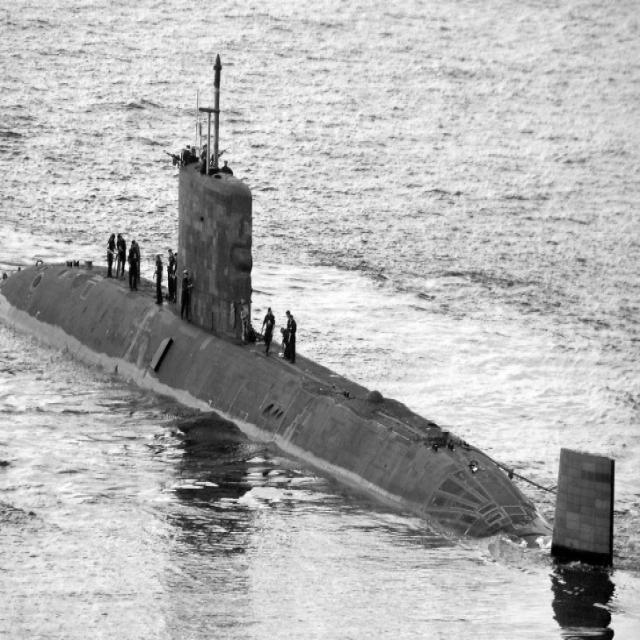submarine: (1, 39, 617, 571)
